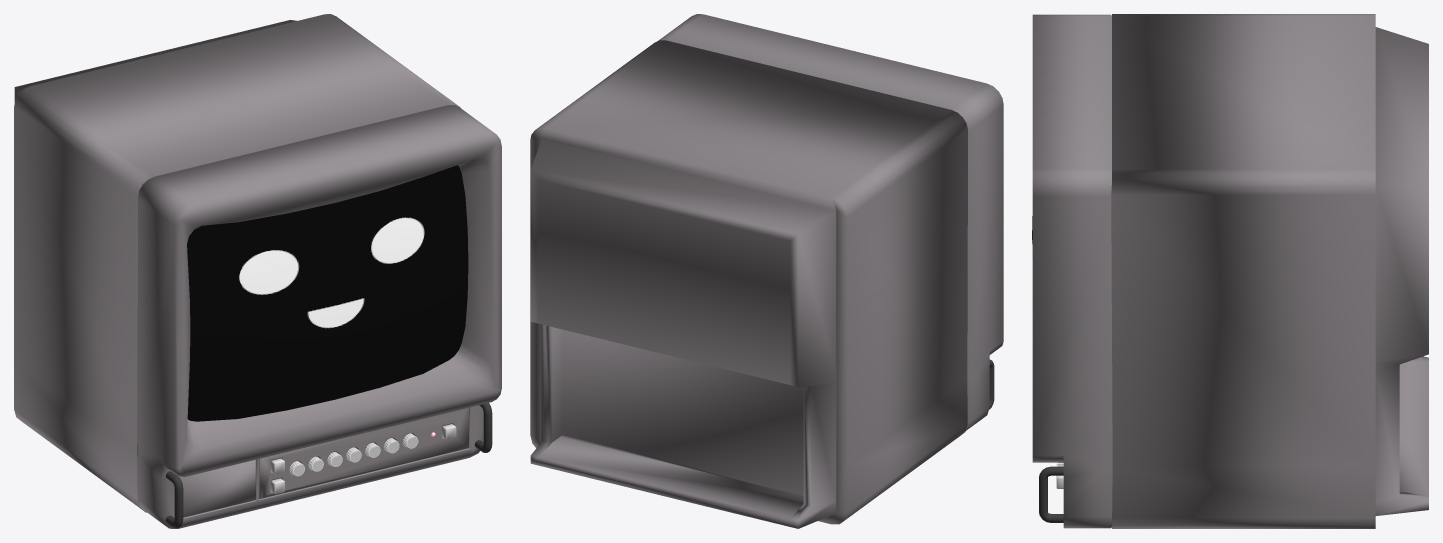
File: Screen.glb
The picture shows the model from 3 angles, left to right: view 1: azimuth 30°, elevation 25°; view 2: azimuth 150°, elevation 25°; view 3: azimuth 270°, elevation 25°; orthographic projection. The views are drawn at different scales.
Visible parts, largest first — view 1: Cube, Screen, Plane; view 2: Cube; view 3: Cube, Plane.
Boxes of the visible parts, x1=… form: Cube: x1=14, y1=14, x2=501, y2=528; Screen: x1=187, y1=165, x2=468, y2=421; Plane: x1=165, y1=403, x2=492, y2=528; Cube: x1=530, y1=14, x2=1003, y2=528; Cube: x1=1032, y1=14, x2=1428, y2=528; Plane: x1=1039, y1=466, x2=1063, y2=522.
Bounding box in the file's own units: 0.3462 × 0.3402 × 0.3416.
Materials: 5 (1 with a texture image).
